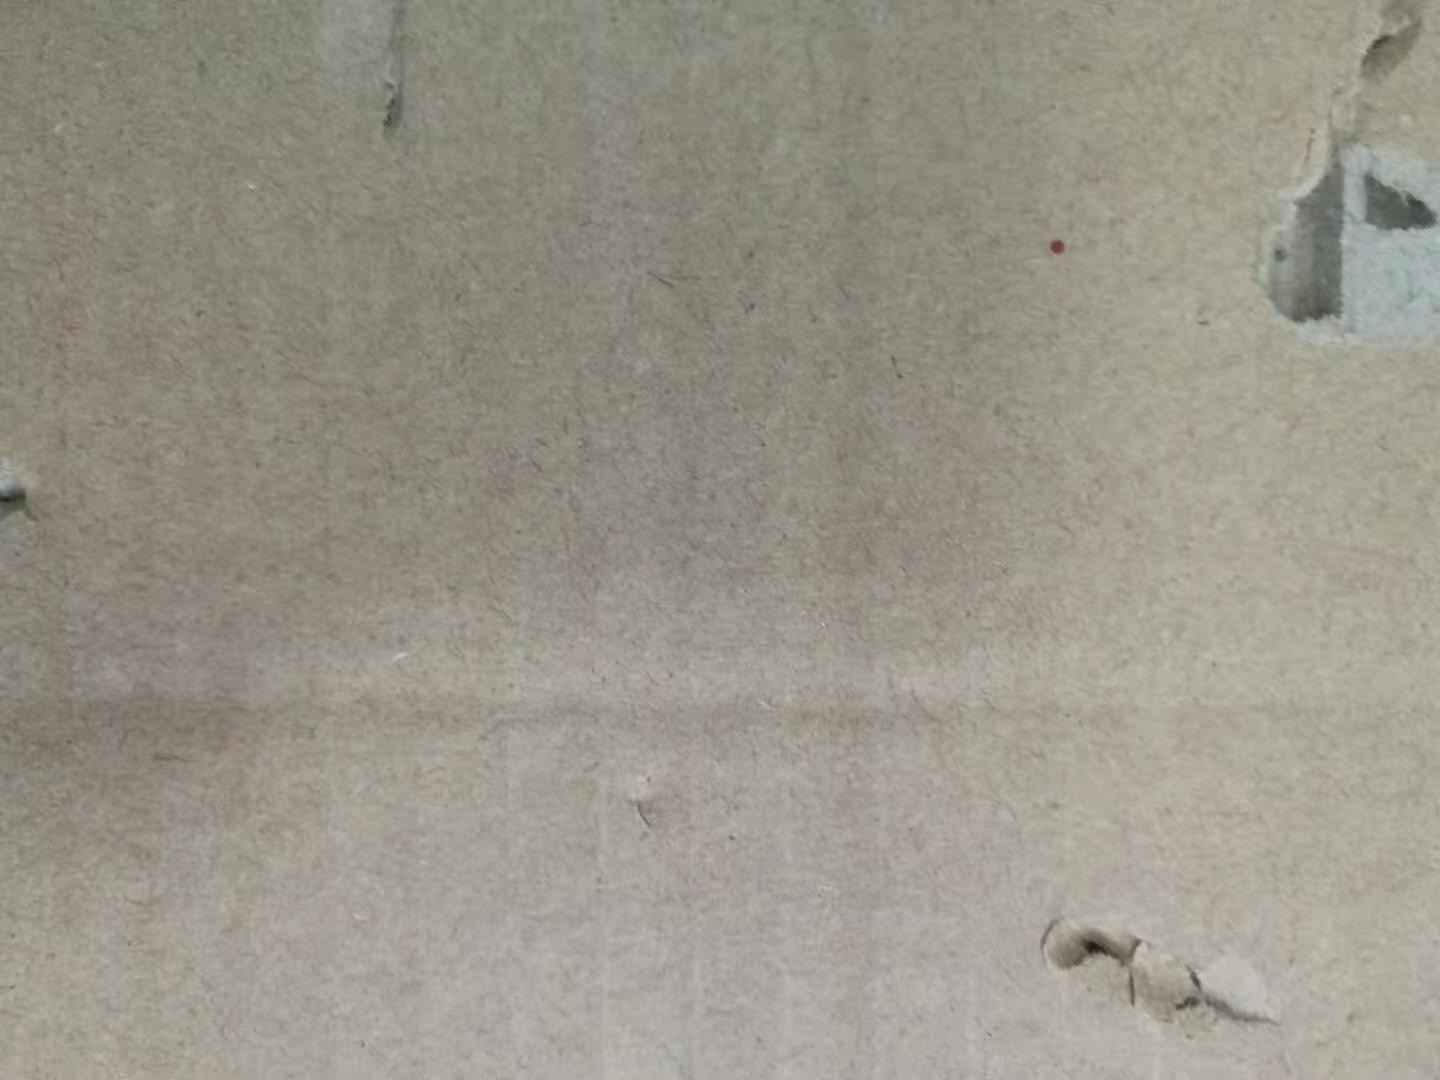defect: (3, 626, 1440, 796), (782, 2, 949, 1080), (1013, 879, 1311, 1055), (327, 5, 443, 164), (2, 440, 56, 547)
